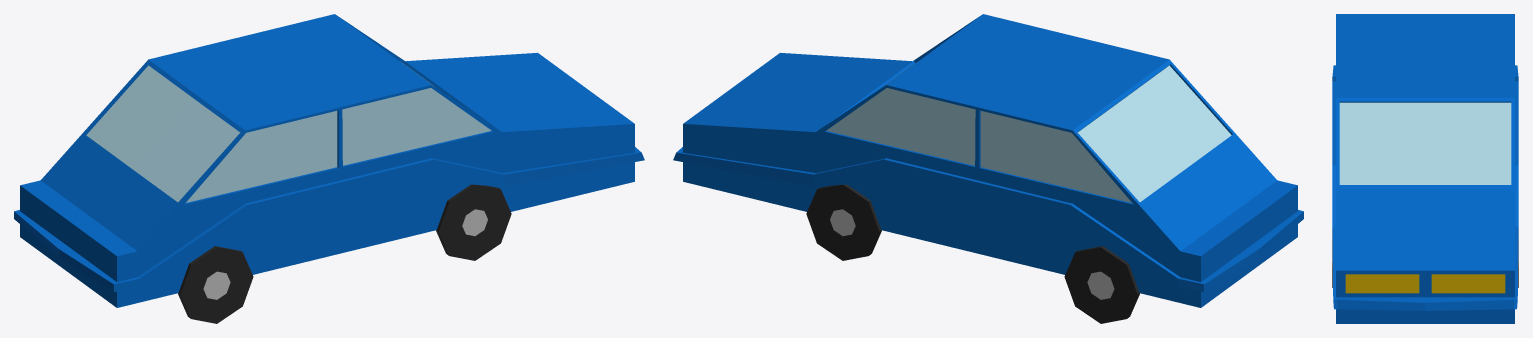
File: Coche2.fbx
The picture shows the model from 3 angles, left to right: view 1: azimuth 30°, elevation 25°; view 2: azimuth 150°, elevation 25°; view 3: azimuth 270°, elevation 25°; orthographic projection. The views are drawn at different scales.
Visible parts, largest first — view 1: Cube, Cylinder.001, Cylinder; view 2: Cube, Cylinder.001, Cylinder; view 3: Cube.
Boxes of the visible parts, x1=… form: Cube: x1=14, y1=14, x2=644, y2=307; Cylinder.001: x1=178, y1=246, x2=253, y2=323; Cylinder: x1=436, y1=184, x2=511, y2=260; Cube: x1=673, y1=14, x2=1303, y2=307; Cylinder.001: x1=1064, y1=246, x2=1139, y2=323; Cylinder: x1=806, y1=184, x2=881, y2=260; Cube: x1=1332, y1=14, x2=1518, y2=323.
Bounding box in the file's own units: 872 × 285 × 282.
